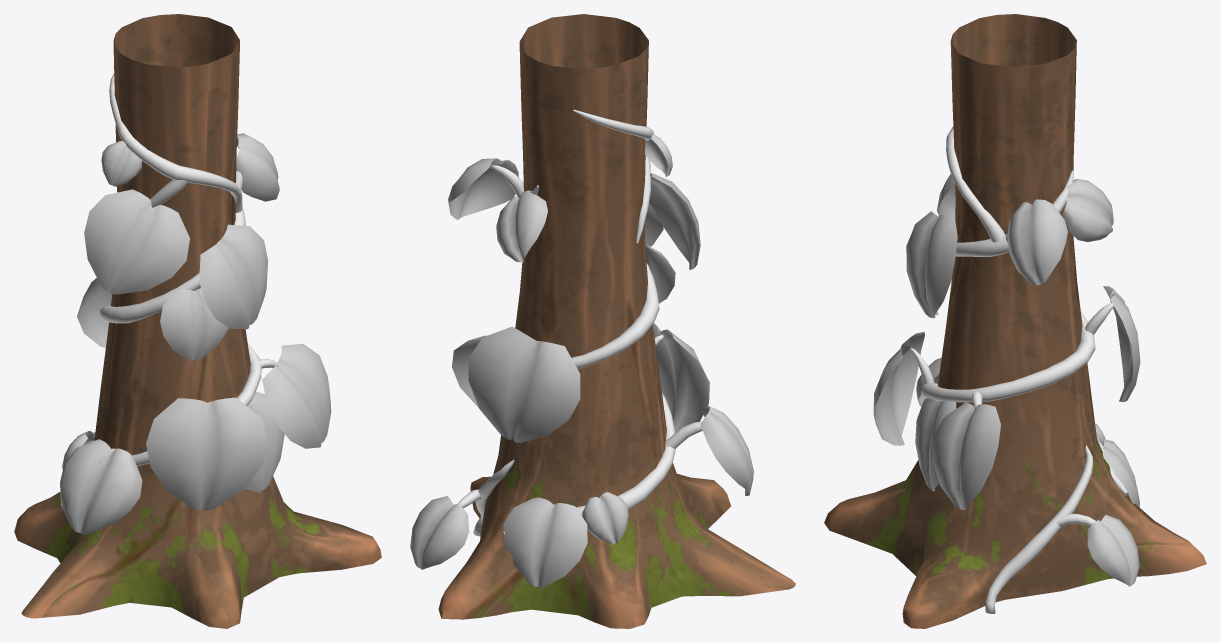
Rendered from Prop_TreeMonstera 1.fbx.
The picture shows the model from 3 angles, left to right: view 1: azimuth 30°, elevation 25°; view 2: azimuth 150°, elevation 25°; view 3: azimuth 270°, elevation 25°; orthographic projection. The views are drawn at different scales.
Parts seen in each view (by area): view 1: Bold_Tree03_L, Treemonstera7, Treemonstera2, Treemonstera6, Treemonstera4, Treemonstera9, Treevine01, Treemonstera5, Treemonstera3, Treemonstera8, Treemonstera11, Treemonstera1; view 2: Bold_Tree03_L, Treemonstera11, Treemonstera13, Treevine01, Treemonstera7, Treemonstera12, Treemonstera3, Treemonstera2, Treemonstera10, Treemonstera6, Treemonstera14, Treemonstera5 (+3 smaller); view 3: Bold_Tree03_L, Treevine01, Treemonstera9, Treemonstera4, Treemonstera3, Treemonstera7, Treemonstera12, Treemonstera10, Treevine09, Treemonstera8, Treemonstera11, Treemonstera13 (+1 smaller).
Part boxes in pixels (<box>): Bold_Tree03_L: <box>14,14,381,628</box>; Treemonstera7: <box>146,397,268,510</box>; Treemonstera2: <box>84,189,189,294</box>; Treemonstera6: <box>60,439,142,534</box>; Treemonstera4: <box>199,224,268,329</box>; Treemonstera9: <box>262,343,331,448</box>; Treevine01: <box>87,73,261,466</box>; Treemonstera5: <box>160,288,228,361</box>; Treemonstera3: <box>236,133,279,201</box>; Treemonstera8: <box>245,391,284,492</box>; Treemonstera11: <box>77,278,112,347</box>; Treemonstera1: <box>101,141,142,186</box>; Bold_Tree03_L: <box>438,14,795,628</box>; Treemonstera11: <box>468,326,580,442</box>; Treemonstera13: <box>503,497,587,587</box>; Treevine01: <box>503,109,675,533</box>; Treemonstera7: <box>653,323,709,432</box>; Treemonstera12: <box>410,496,469,569</box>; Treemonstera3: <box>448,158,518,219</box>; Treemonstera2: <box>649,173,700,269</box>; Treemonstera10: <box>496,190,547,262</box>; Treemonstera6: <box>700,405,753,495</box>; Treemonstera14: <box>582,492,628,543</box>; Treemonstera5: <box>645,244,675,303</box>; Bold_Tree03_L: <box>824,14,1206,628</box>; Treevine01: <box>920,127,1128,495</box>; Treemonstera9: <box>932,402,1000,510</box>; Treemonstera4: <box>906,211,957,318</box>; Treemonstera3: <box>1007,199,1067,285</box>; Treemonstera7: <box>873,331,924,445</box>; Treemonstera12: <box>1087,514,1139,586</box>; Treemonstera10: <box>1061,179,1113,241</box>; Treevine09: <box>985,445,1093,613</box>; Treemonstera8: <box>915,398,956,491</box>; Treemonstera11: <box>1103,286,1140,401</box>; Treemonstera13: <box>1100,438,1139,506</box>.
Bounding box in the file's own units: 3486 × 5175 × 3472.
